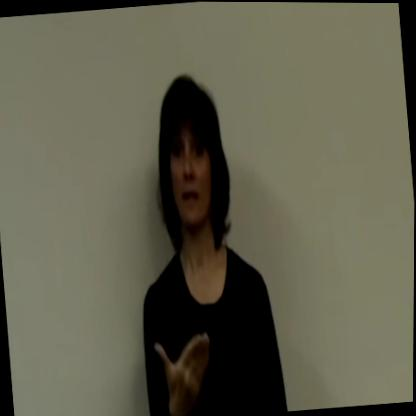ThankYou: (119, 46, 270, 416)
